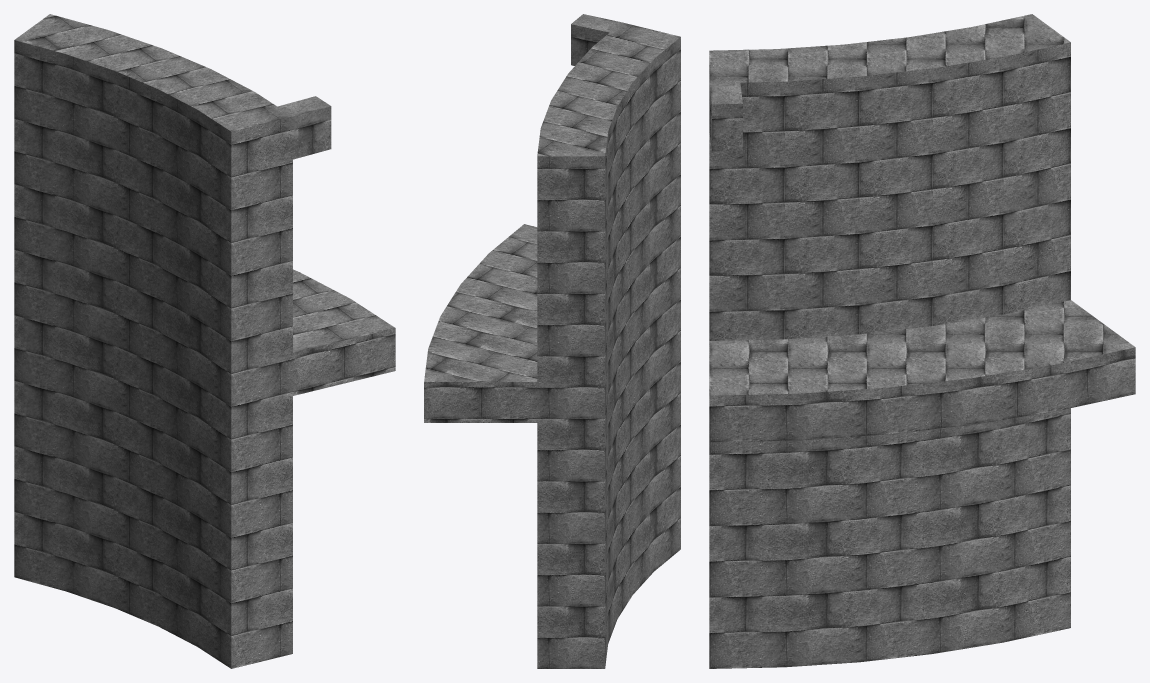
File: tile2.dae
3 views of the same model, side by side, from view 1: azimuth 30°, elevation 25°; view 2: azimuth 150°, elevation 25°; view 3: azimuth 270°, elevation 25° (orthographic). The views are drawn at different scales.
Visible parts, largest first — view 1: SketchUp; view 2: SketchUp; view 3: SketchUp.
Boxes of the visible parts, bbox=[...] form: SketchUp: bbox=[14, 14, 395, 668]; SketchUp: bbox=[424, 14, 680, 668]; SketchUp: bbox=[709, 14, 1135, 668].
Bounding box in the file's own units: 44.68 × 64.96 × 98.43.
1 material, 1 textured.
